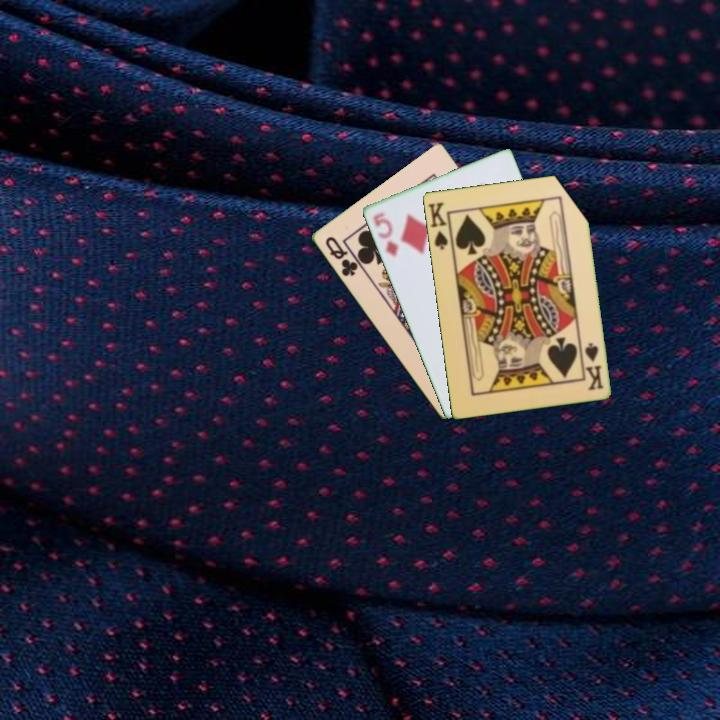5d: (369, 209, 401, 260)
Ks: (424, 198, 451, 252), (581, 339, 606, 393)
Qc: (321, 233, 360, 280)
